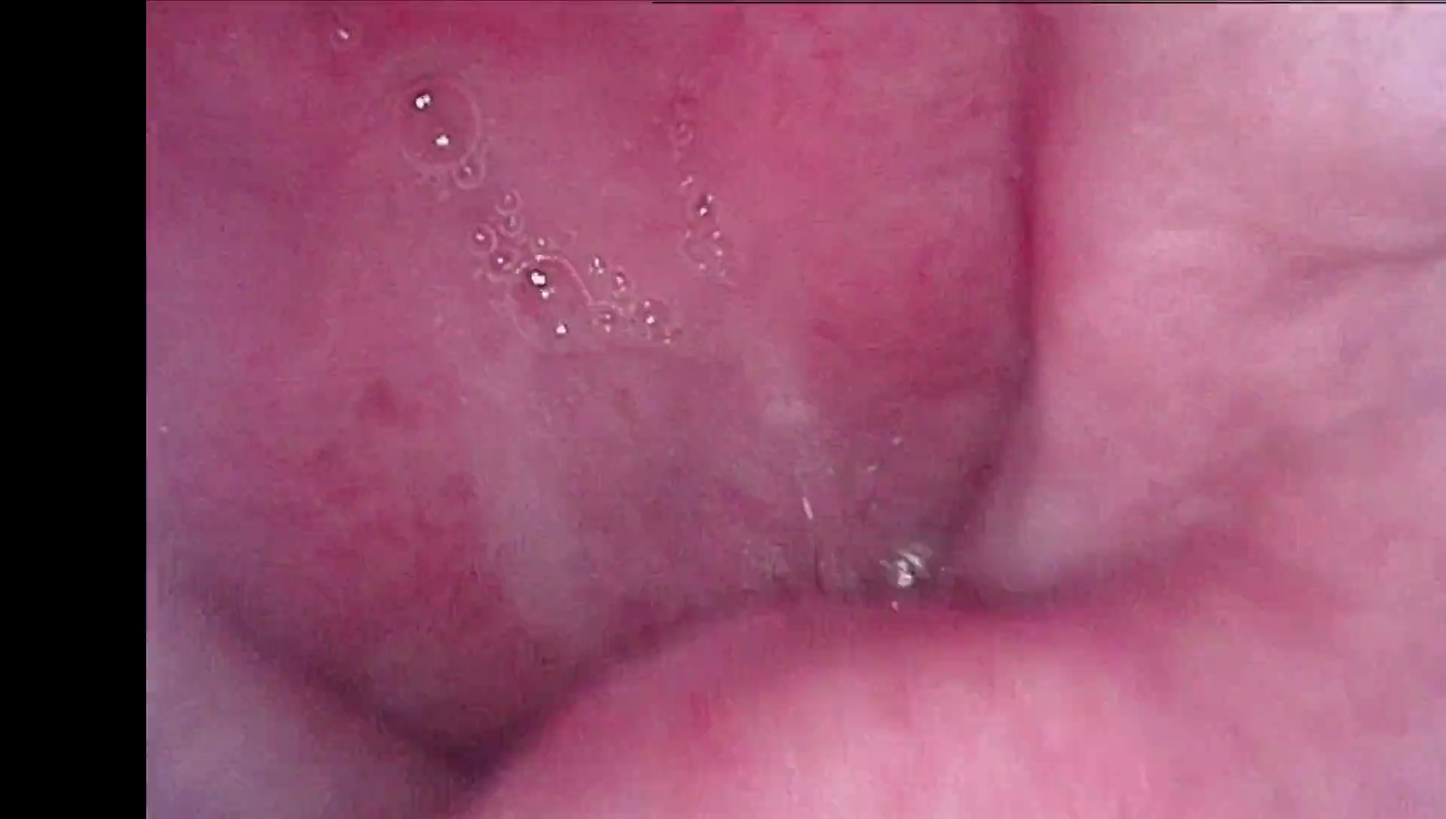close_wall: (1166, 0, 1446, 217)
next: (353, 672, 557, 803)
